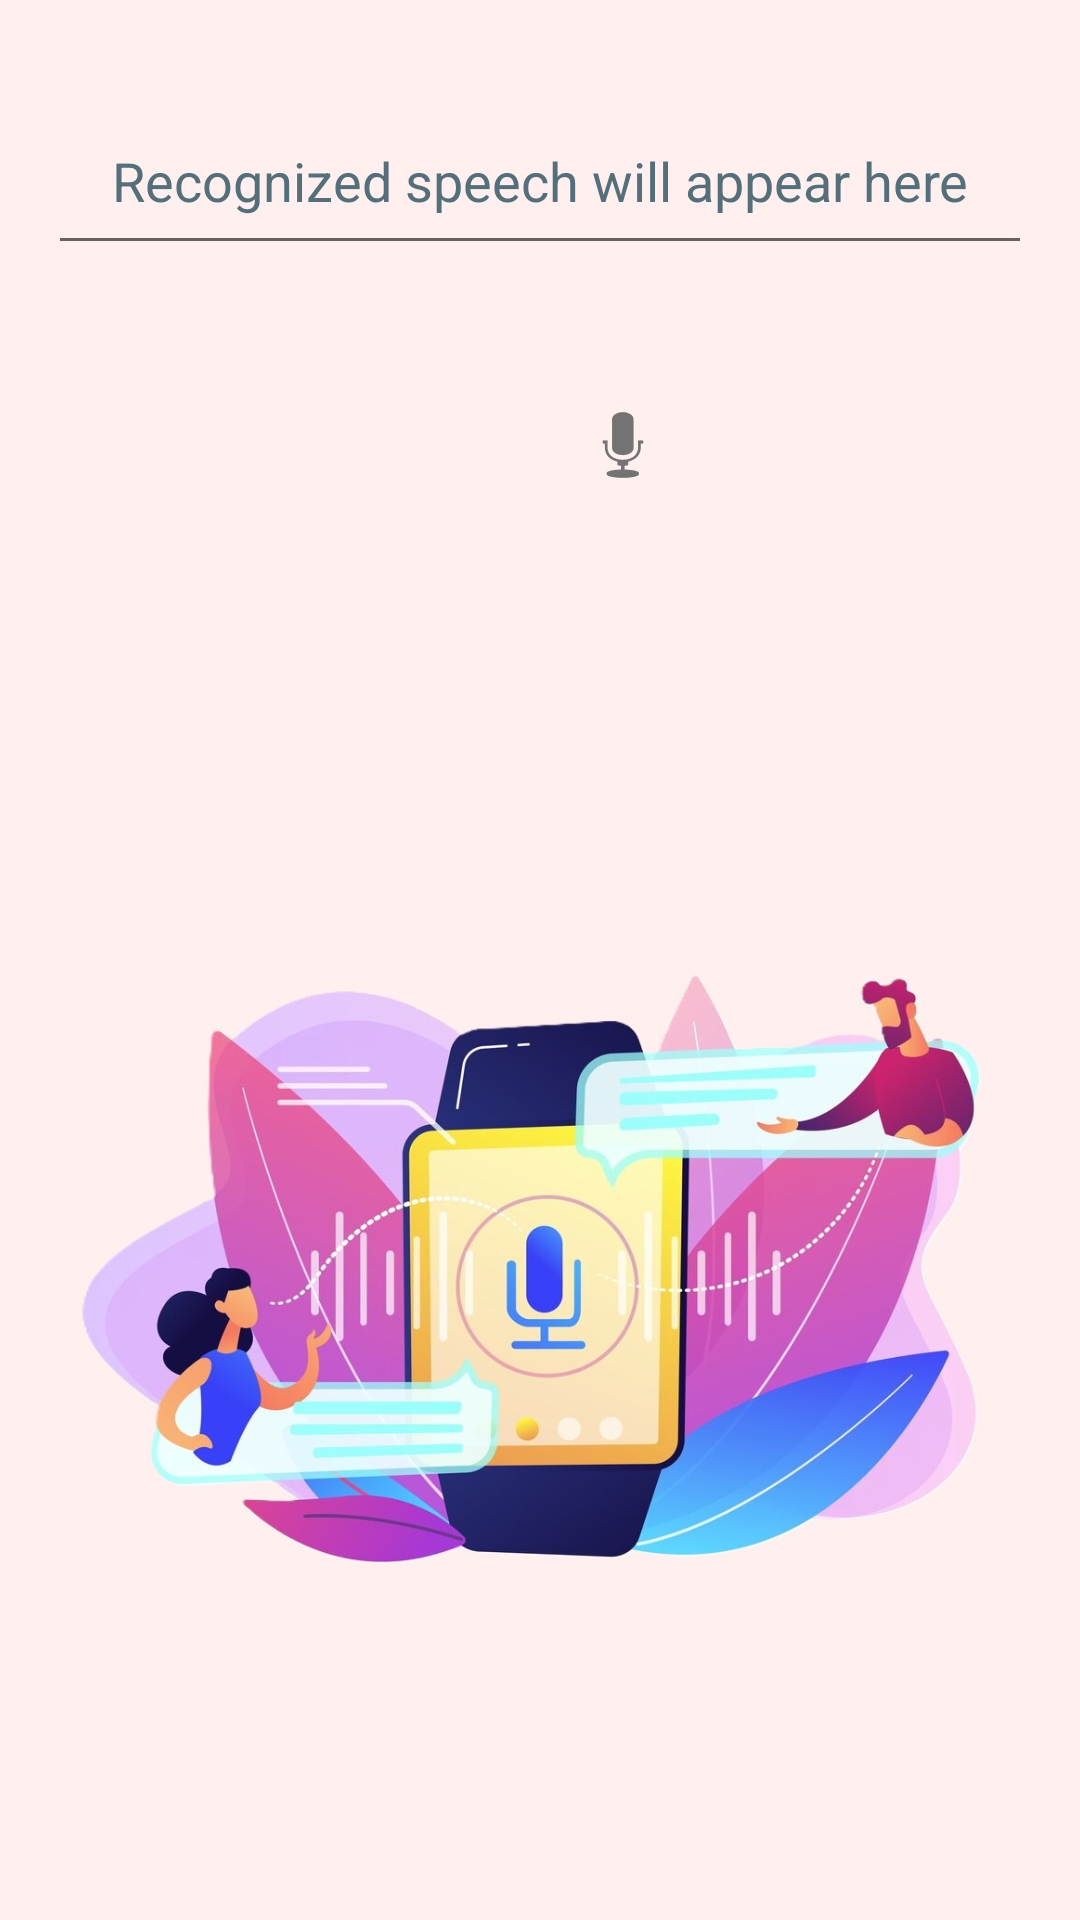

Icons on this 1080×1920 Android screen, each with its box as (x1=x1, y1=y1, x2=x2, y2=y2):
Mic: (x1=602, y1=412, x2=644, y2=478)
